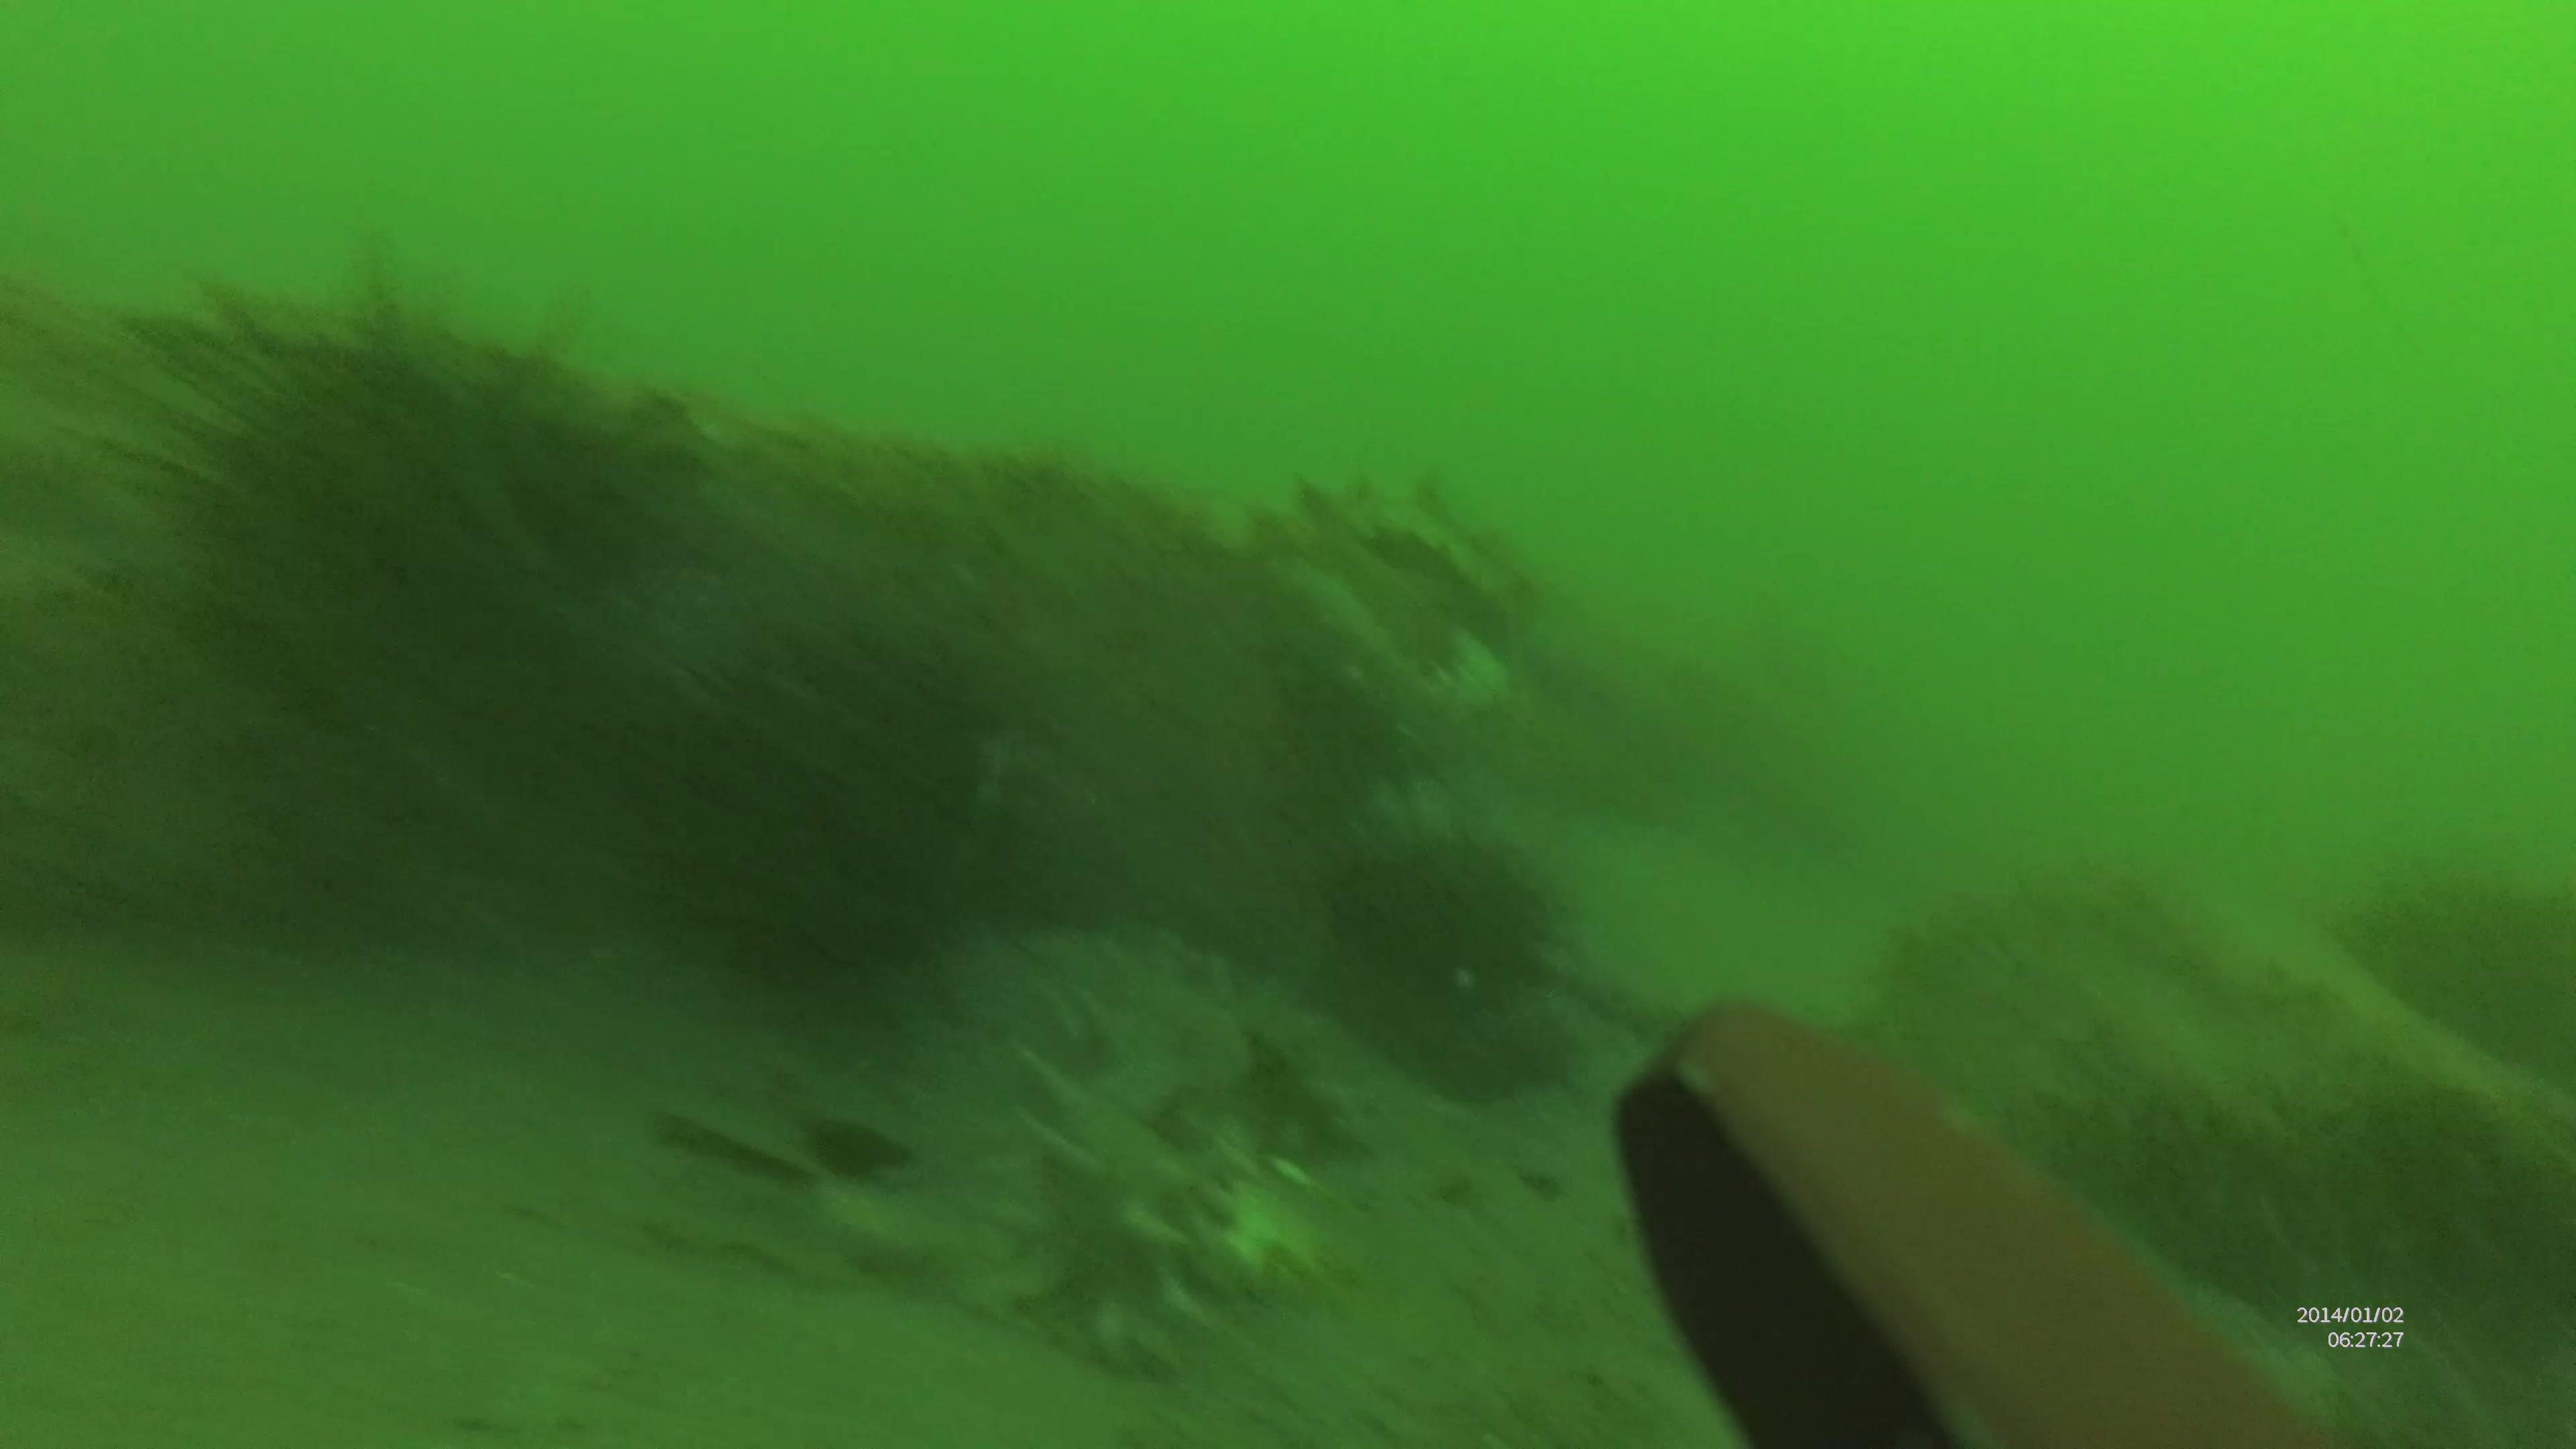echinus: (1327, 835, 1578, 1019)
holothurian: (994, 1021, 1375, 1368), (1292, 455, 1573, 635)
